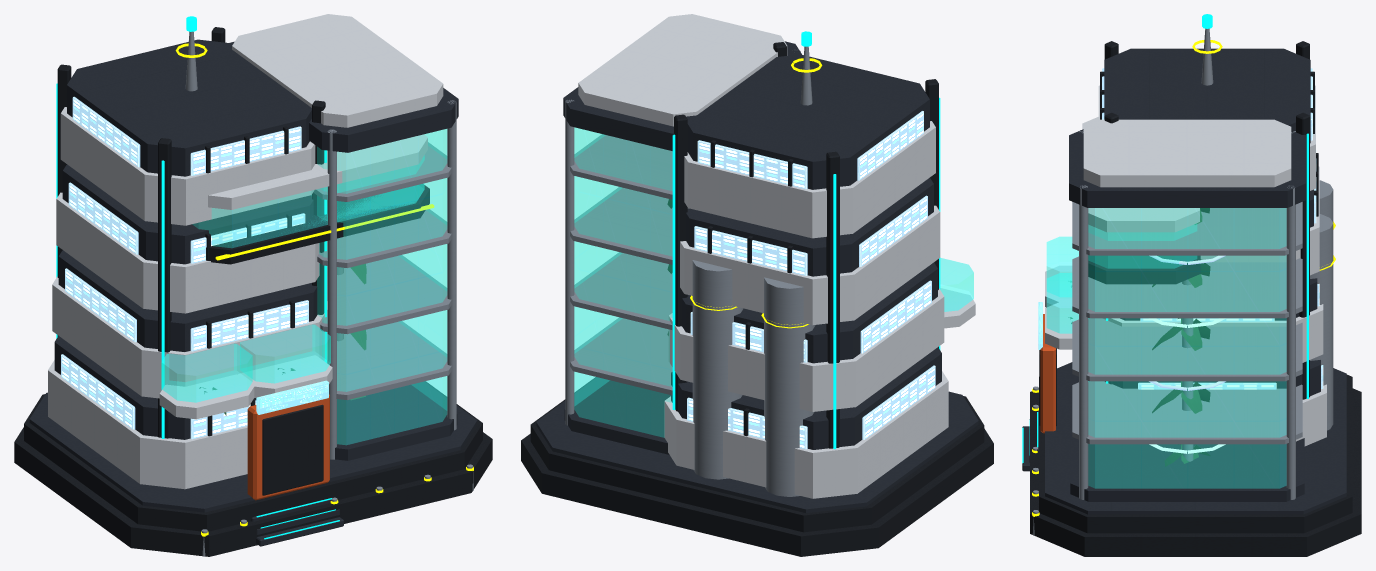
Rendered from bldg_03_r1_05.glb.
The picture shows the model from 3 angles, left to right: view 1: azimuth 30°, elevation 25°; view 2: azimuth 150°, elevation 25°; view 3: azimuth 270°, elevation 25°; orthographic projection. The views are drawn at different scales.
Visible parts, largest first — view 1: Bldg03_C05_aero_white, Bldg03_C05_carbon_slate, Bldg03_C05_glass_emerald, Bldg03_C05_gunmetal, Bldg03_C05_steel_machined, Bldg03_C05_window_lit, Bldg03_C05_accent_orange, Bldg03_C05_led_cyan, Bldg03_C05_marquee, Bldg03_C05_led_amber; view 2: Bldg03_C05_aero_white, Bldg03_C05_carbon_slate, Bldg03_C05_steel_machined, Bldg03_C05_gunmetal, Bldg03_C05_glass_emerald, Bldg03_C05_window_lit, Bldg03_C05_led_cyan; view 3: Bldg03_C05_glass_emerald, Bldg03_C05_steel_machined, Bldg03_C05_carbon_slate, Bldg03_C05_aero_white, Bldg03_C05_gunmetal, Bldg03_C05_foliage, Bldg03_C05_window_lit, Bldg03_C05_accent_orange, Bldg03_C05_led_cyan, Bldg03_C05_led_uv, Bldg03_C05_led_ice.
Boxes of the visible parts, left/top/right/bottom form: Bldg03_C05_aero_white: left=48, top=14, right=443, bottom=489; Bldg03_C05_carbon_slate: left=29, top=39, right=477, bottom=546; Bldg03_C05_glass_emerald: left=161, top=129, right=447, bottom=444; Bldg03_C05_gunmetal: left=14, top=27, right=492, bottom=556; Bldg03_C05_steel_machined: left=185, top=31, right=473, bottom=556; Bldg03_C05_window_lit: left=61, top=96, right=308, bottom=439; Bldg03_C05_accent_orange: left=247, top=394, right=329, bottom=500; Bldg03_C05_led_cyan: left=56, top=16, right=339, bottom=539; Bldg03_C05_marquee: left=256, top=380, right=328, bottom=414; Bldg03_C05_led_amber: left=175, top=43, right=473, bottom=536; Bldg03_C05_aero_white: left=578, top=14, right=975, bottom=498; Bldg03_C05_carbon_slate: left=536, top=41, right=978, bottom=512; Bldg03_C05_steel_machined: left=565, top=46, right=815, bottom=496; Bldg03_C05_gunmetal: left=521, top=42, right=993, bottom=556; Bldg03_C05_glass_emerald: left=574, top=127, right=973, bottom=437; Bldg03_C05_window_lit: left=687, top=111, right=935, bottom=449; Bldg03_C05_led_cyan: left=672, top=31, right=940, bottom=449; Bldg03_C05_glass_emerald: left=1046, top=208, right=1286, bottom=488; Bldg03_C05_steel_machined: left=1032, top=28, right=1333, bottom=535; Bldg03_C05_carbon_slate: left=1022, top=48, right=1346, bottom=514; Bldg03_C05_aero_white: left=1045, top=85, right=1326, bottom=446; Bldg03_C05_gunmetal: left=1030, top=41, right=1361, bottom=556; Bldg03_C05_foliage: left=1068, top=208, right=1210, bottom=466; Bldg03_C05_window_lit: left=1102, top=68, right=1323, bottom=389; Bldg03_C05_accent_orange: left=1040, top=314, right=1055, bottom=433; Bldg03_C05_led_cyan: left=1022, top=14, right=1308, bottom=463; Bldg03_C05_led_uv: left=1149, top=255, right=1225, bottom=390; Bldg03_C05_led_ice: left=1149, top=318, right=1225, bottom=453.
Bounding box in the file's own units: 12 × 14.32 × 10.23.
Materials: 14 (14 with a texture image).
